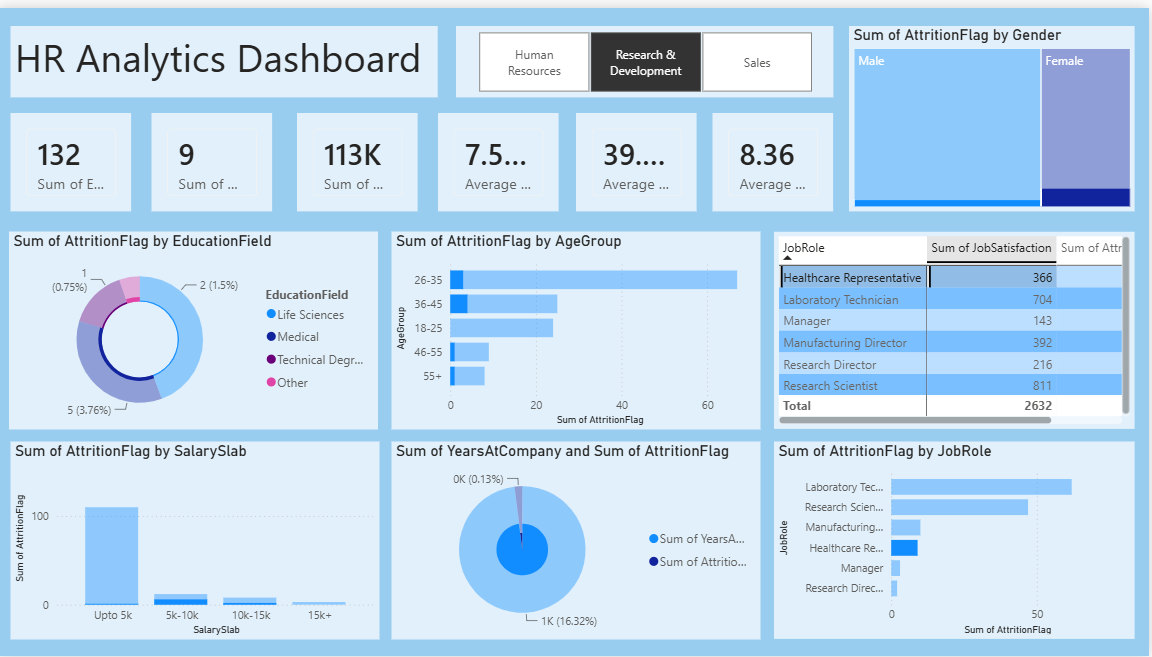

The page's visual inventory and layout, read from the dashboard file:
{"tool":"powerbi","page":{"name":"Page 1","canvas":[1280,720],"ordinal":0},"visuals":[{"type":"textbox","box":[15.1,20.8,474.3,79.4],"z":0},{"type":"cardVisual","title":"su","fields":{"Data":["Sum(HR_Analytics.EmployeeCount)"]},"box":[15.1,117.2,134.2,109.6],"z":1000},{"type":"cardVisual","fields":{"Data":["Sum(HR_Analytics.AttritionFlag)"]},"box":[171.8,116.1,133.6,109.8],"z":2000},{"type":"cardVisual","fields":{"Data":["Sum(HR_Analytics.DailyRate)"]},"box":[327.7,116.1,133.6,109.8],"z":3000},{"type":"donutChart","fields":{"Category":["HR_Analytics.EducationField"],"Y":["Sum(HR_Analytics.AttritionFlag)"]},"box":[13.2,247.6,410,220],"z":4000},{"type":"columnChart","fields":{"Category":["HR_Analytics.SalarySlab"],"Y":["Sum(HR_Analytics.AttritionFlag)"]},"box":[15.1,481.9,410,220],"z":5000},{"type":"barChart","fields":{"Category":["HR_Analytics.AgeGroup"],"Y":["Sum(HR_Analytics.AttritionFlag)"]},"box":[438.4,247.6,410,220],"z":6000},{"type":"pieChart","fields":{"Y":["Sum(HR_Analytics.YearsAtCompany)","Sum(HR_Analytics.AttritionFlag)"]},"box":[438.4,481.9,410,220],"z":7000},{"type":"clusteredBarChart","fields":{"Category":["HR_Analytics.JobRole"],"Y":["Sum(HR_Analytics.AttritionFlag)"]},"box":[863.6,481.9,400.6,219.2],"z":8000},{"type":"treemap","fields":{"Group":["HR_Analytics.Gender"],"Values":["Sum(HR_Analytics.AttritionFlag)"]},"box":[946.8,20.8,317.5,206],"z":9000},{"type":"slicer","fields":{"Values":["HR_Analytics.Department"]},"box":[510.2,20.8,419.5,79.4],"z":10000},{"type":"pivotTable","fields":{"Rows":["HR_Analytics.JobRole"],"Values":["Sum(HR_Analytics.JobSatisfaction)","Sum(HR_Analytics.AttritionFlag)"]},"box":[863.6,247.6,400.6,219.2],"z":11000},{"type":"cardVisual","fields":{"Data":["Avg(HR_Analytics.MonthlyIncome)"]},"box":[489.5,117.2,134.2,109.6],"z":12000},{"type":"cardVisual","fields":{"Data":["Avg(HR_Analytics.Age)"]},"box":[642.5,117.2,134.2,109.6],"z":13000},{"type":"cardVisual","fields":{"Data":["Avg(HR_Analytics.YearsAtCompany)"]},"box":[795.6,117.2,134.2,109.6],"z":14000}]}

Visuals, with their boxes in screenshot pixels (x1, y1, x2, y2), scaled from the page's 1280x720 canvas onto the 1152x657 screenshot:
textbox: crop(14, 19, 440, 91)
"su" cardVisual: crop(14, 107, 134, 207)
cardVisual - Sum(HR_Analytics.AttritionFlag): crop(155, 106, 275, 206)
cardVisual - Sum(HR_Analytics.DailyRate): crop(295, 106, 415, 206)
donutChart - HR_Analytics.EducationField x Sum(HR_Analytics.AttritionFlag): crop(12, 226, 381, 427)
columnChart - HR_Analytics.SalarySlab x Sum(HR_Analytics.AttritionFlag): crop(14, 440, 383, 640)
barChart - HR_Analytics.AgeGroup x Sum(HR_Analytics.AttritionFlag): crop(395, 226, 764, 427)
pieChart - Sum(HR_Analytics.YearsAtCompany) x Sum(HR_Analytics.AttritionFlag): crop(395, 440, 764, 640)
clusteredBarChart - HR_Analytics.JobRole x Sum(HR_Analytics.AttritionFlag): crop(777, 440, 1138, 640)
treemap - HR_Analytics.Gender x Sum(HR_Analytics.AttritionFlag): crop(852, 19, 1138, 207)
slicer - HR_Analytics.Department: crop(459, 19, 837, 91)
pivotTable - HR_Analytics.JobRole x Sum(HR_Analytics.JobSatisfaction): crop(777, 226, 1138, 426)
cardVisual - Avg(HR_Analytics.MonthlyIncome): crop(441, 107, 561, 207)
cardVisual - Avg(HR_Analytics.Age): crop(578, 107, 699, 207)
cardVisual - Avg(HR_Analytics.YearsAtCompany): crop(716, 107, 837, 207)
